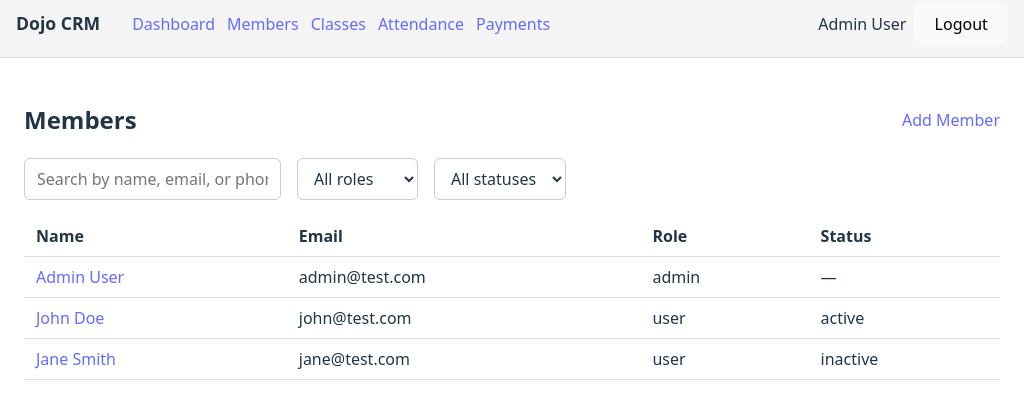
MemberListPage › filters by membership status
expect the link "John Doe" is shown: met, box [36, 307, 104, 329]
Select "Active" in the dropdown named "Filter by status": (500, 179) [434, 158, 566, 200]
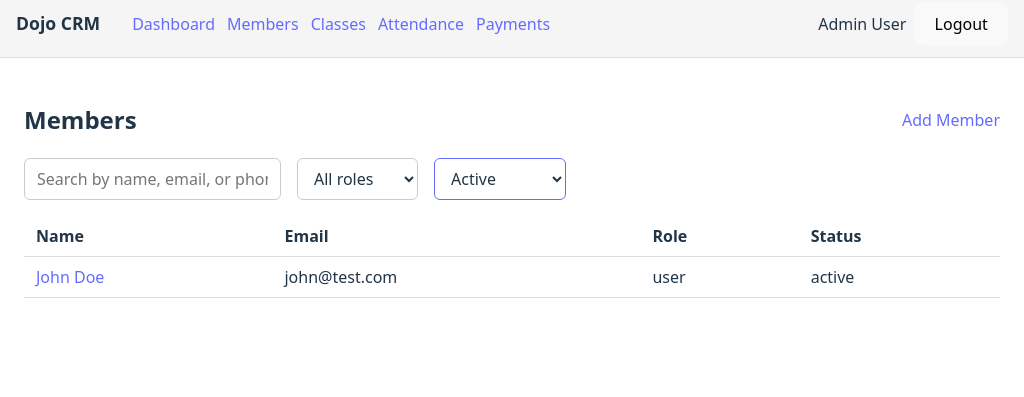
expect the link "John Doe" is shown: met, box [36, 266, 104, 288]
expect the link "Jane Smith" is gone: met
